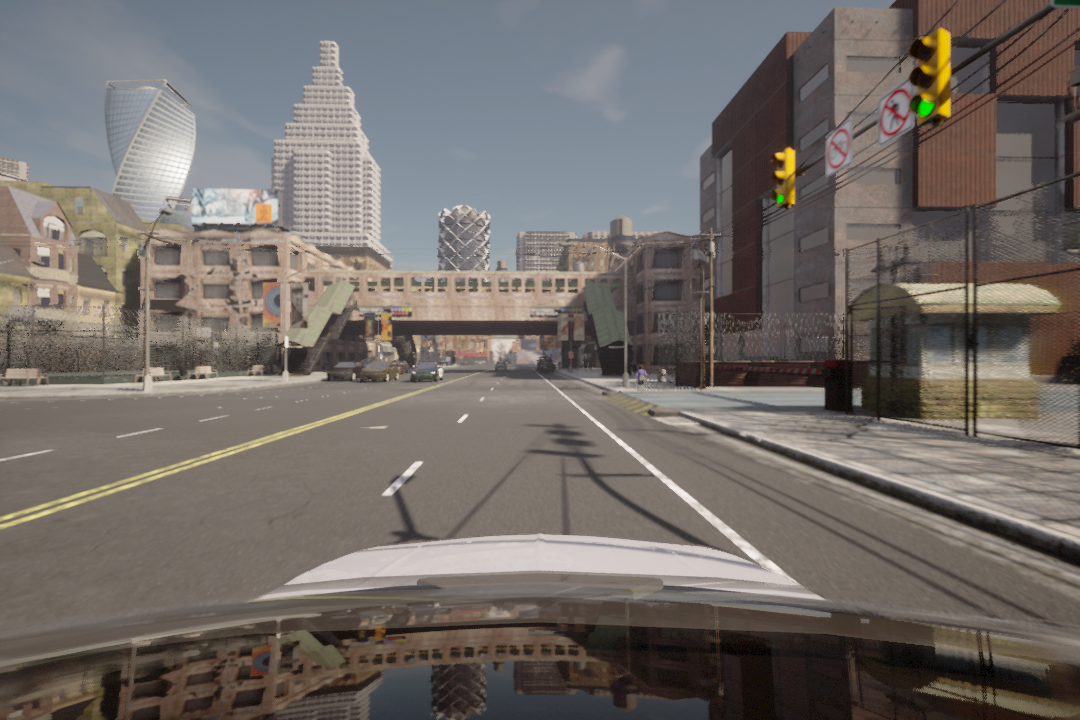TrafficLight: (913, 29, 961, 120), (765, 149, 801, 209)
TrafficSign: (876, 83, 914, 135), (820, 124, 852, 171)
